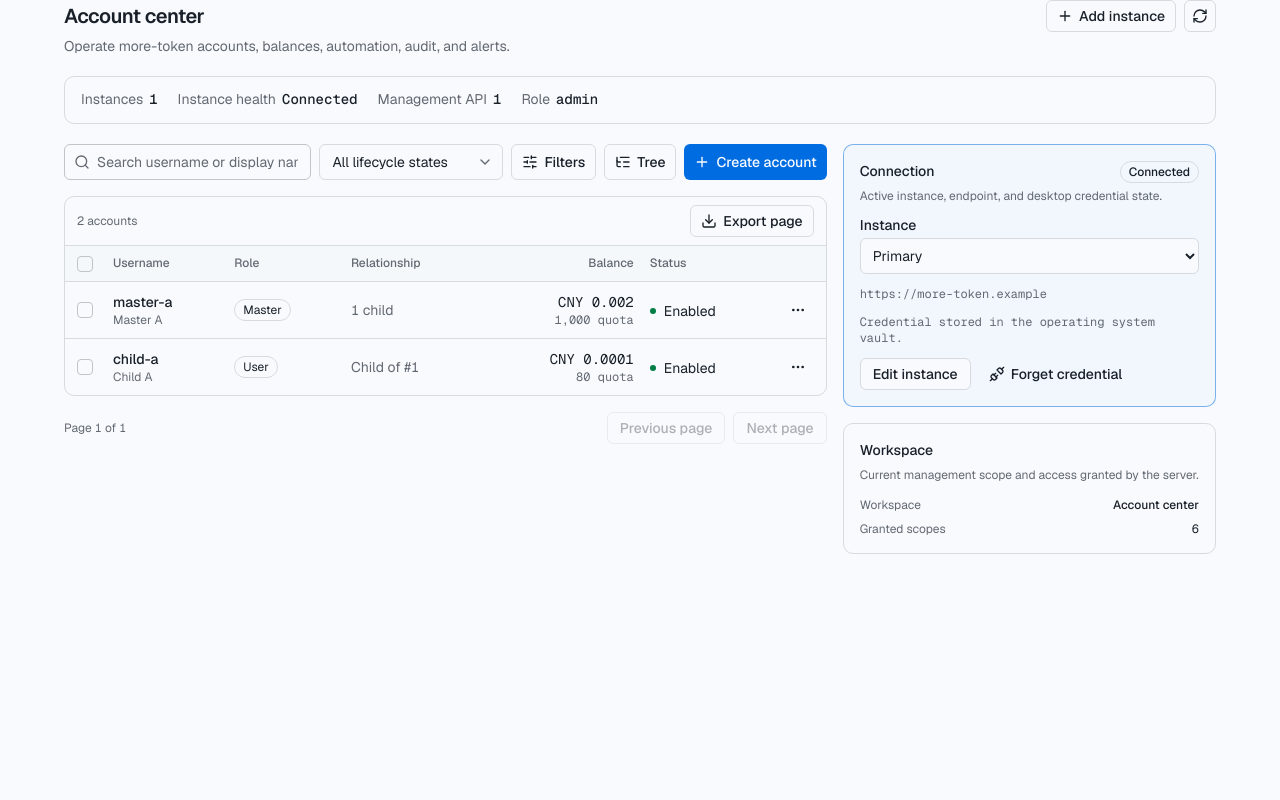
Test: account lifecycle dialog › offers no write-off to an admin closing an account
The image size is (1280, 800).
Click the button named "Actions: child-a" at (798, 367), box [782,351,814,383]
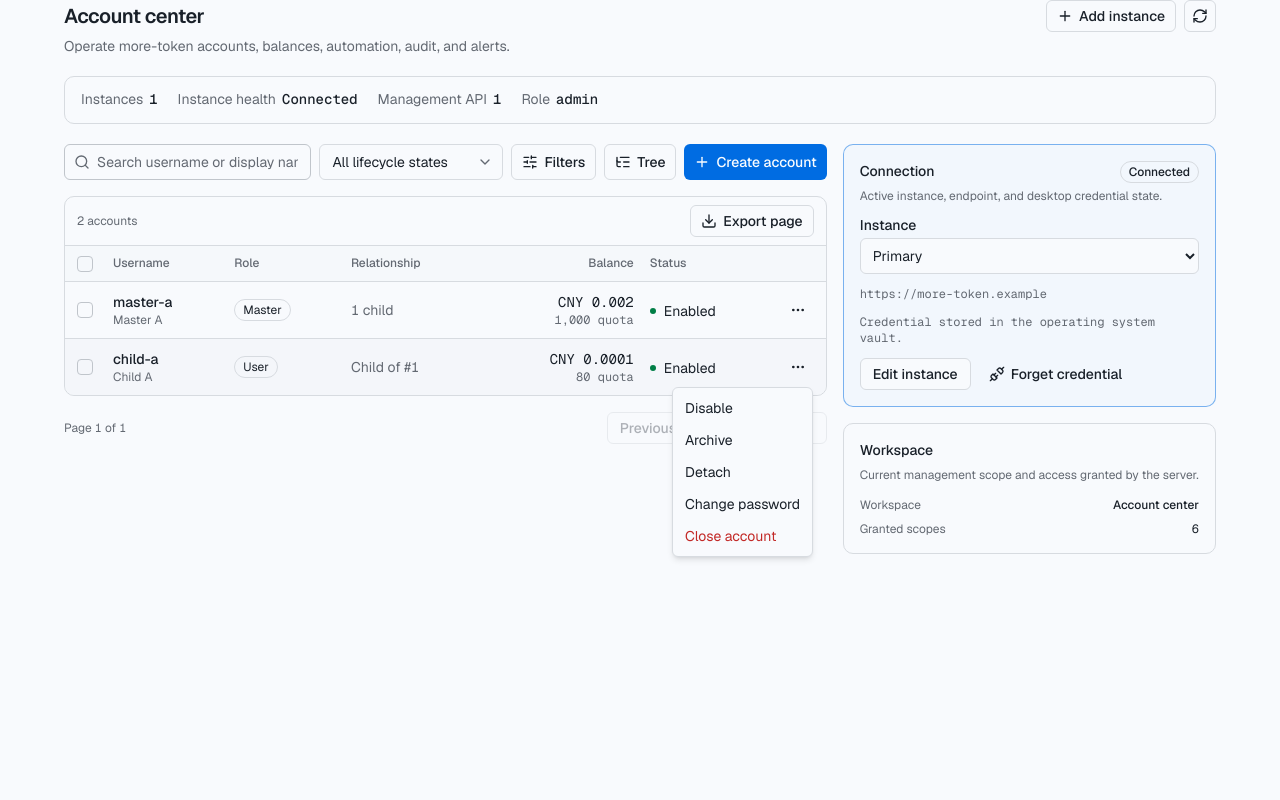
Click the menu item "Close account" at (731, 536), box [685,527,776,545]
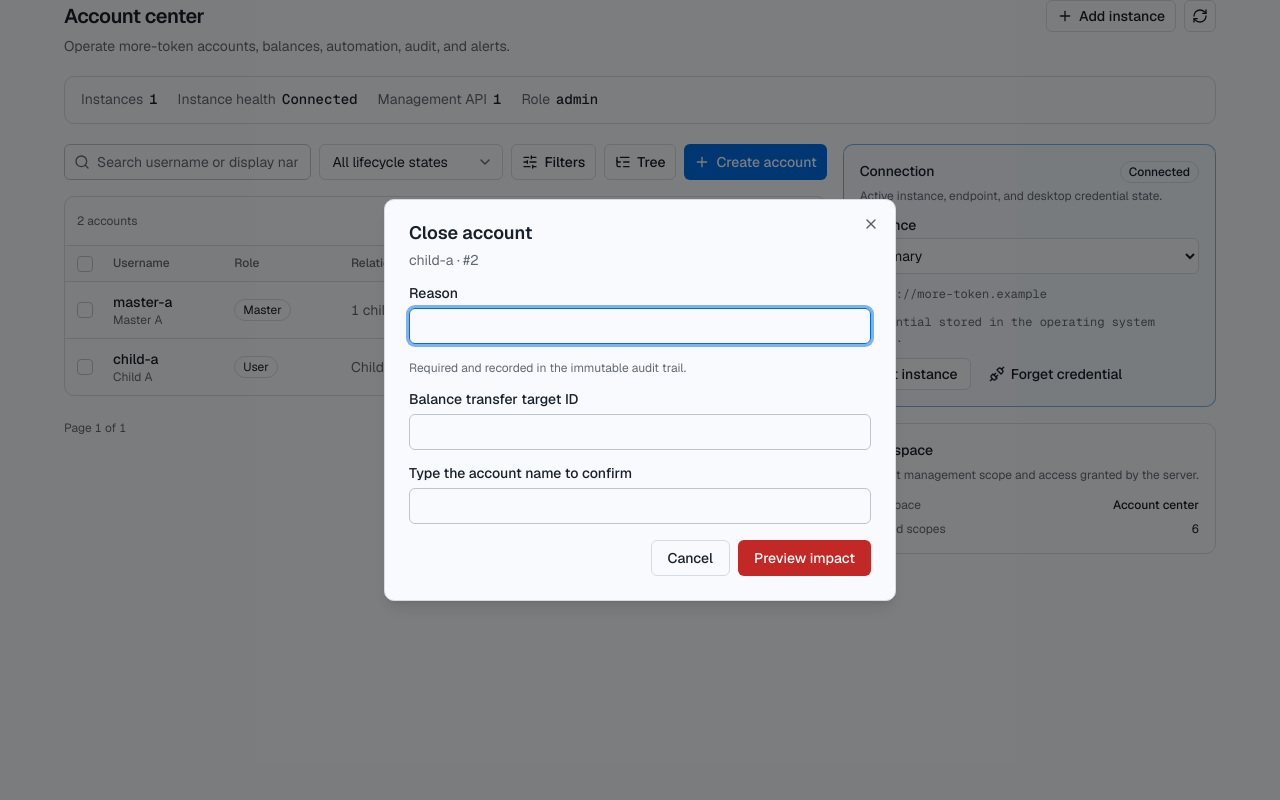
expect the number field labelled "Balance transfer target ID" is shown: met, box [409,414,871,450]
